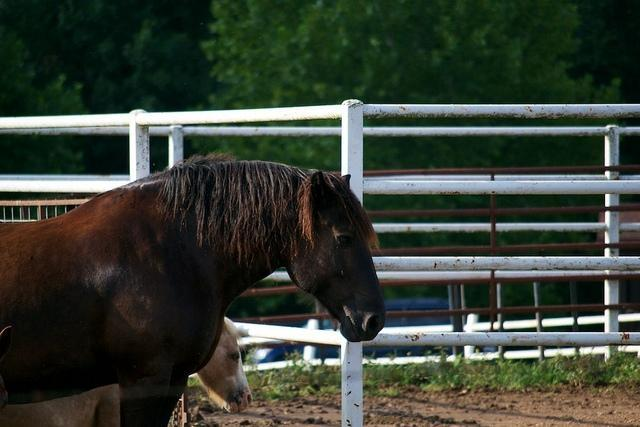car: (252, 296, 454, 366)
